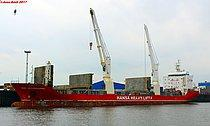Ship: (7, 58, 203, 112)
